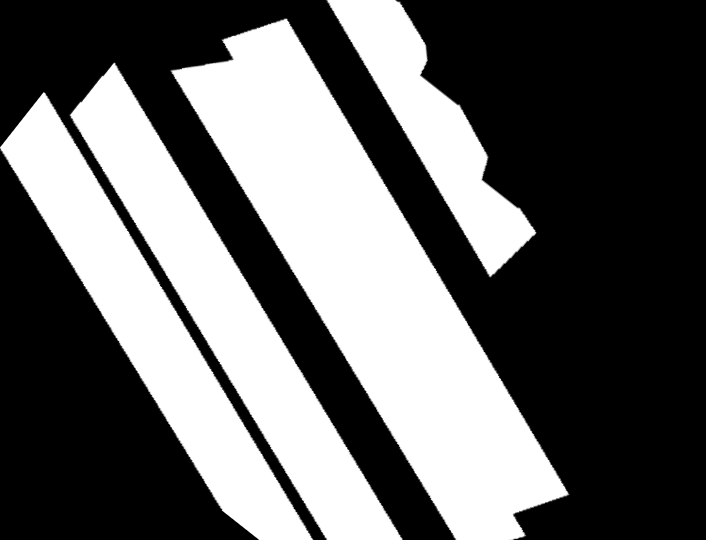parkingspot: (171, 19, 569, 540), (70, 63, 402, 540), (0, 92, 313, 540), (327, 0, 536, 277)
